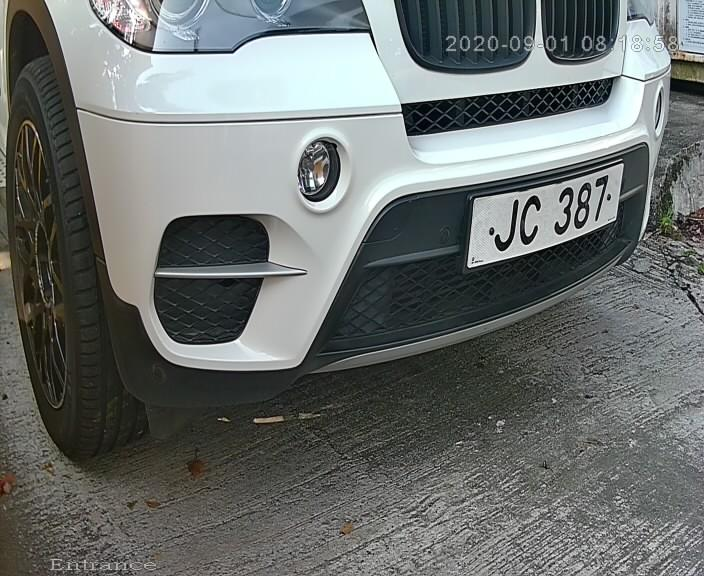License Plate: (466, 163, 620, 271)
